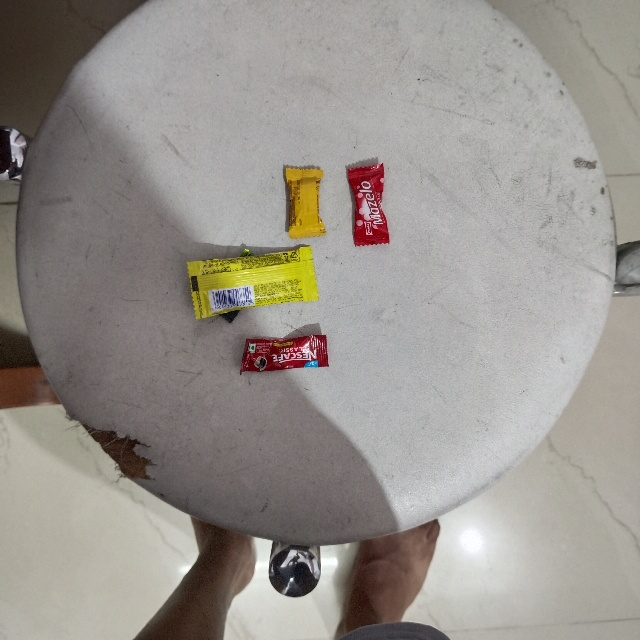Alpenlibe Creamfills: (283, 162, 329, 232)
Mazelo: (348, 162, 393, 247)
Nescafe Coffee: (238, 336, 330, 368)
Orbit: (181, 261, 319, 326)
